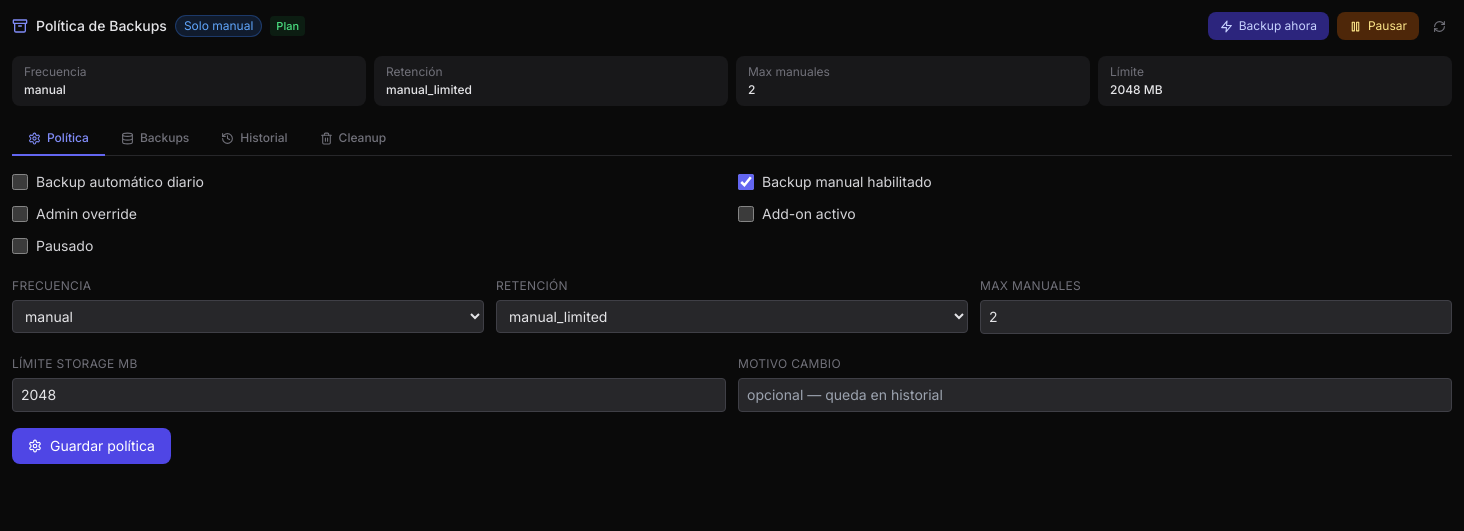
Test: BackupPolicyPanel — error handling › 13 — adminCreateBackup failure with object detail shows string, no crash
Click the button "Backup ahora" at (1268, 26), box [1208,12,1329,40]
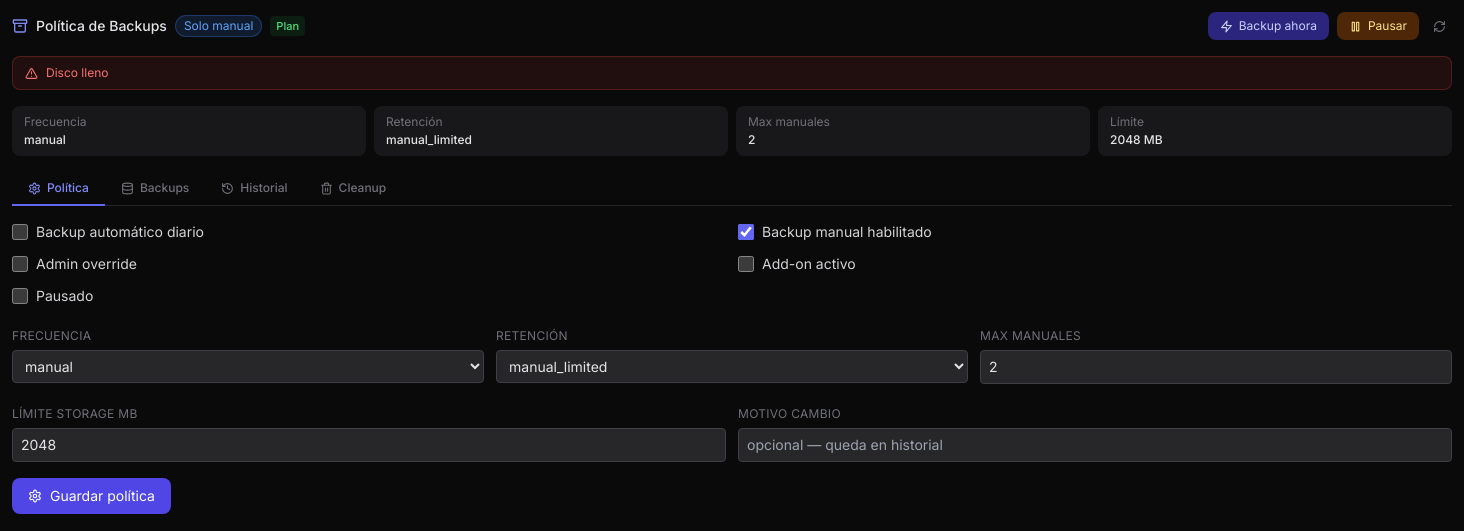
Result: the text "Disco lleno" is shown at [12,56,1452,90]
